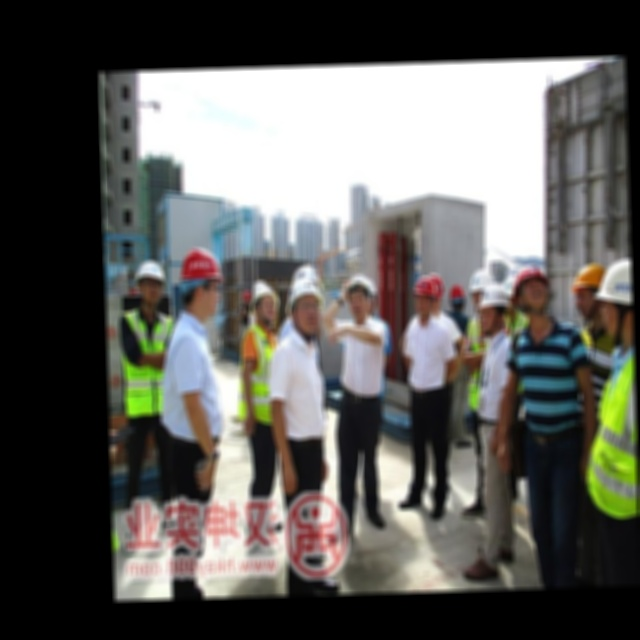Con_Casco: (592, 257, 632, 339), (134, 259, 168, 308)
Con_Chaleco: (582, 344, 638, 515), (117, 307, 175, 421)
Sin_Chaleco: (267, 332, 330, 438), (402, 316, 453, 393)
